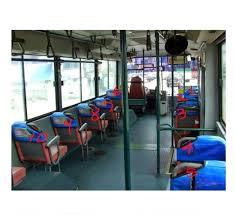seat: (16, 119, 70, 173)
